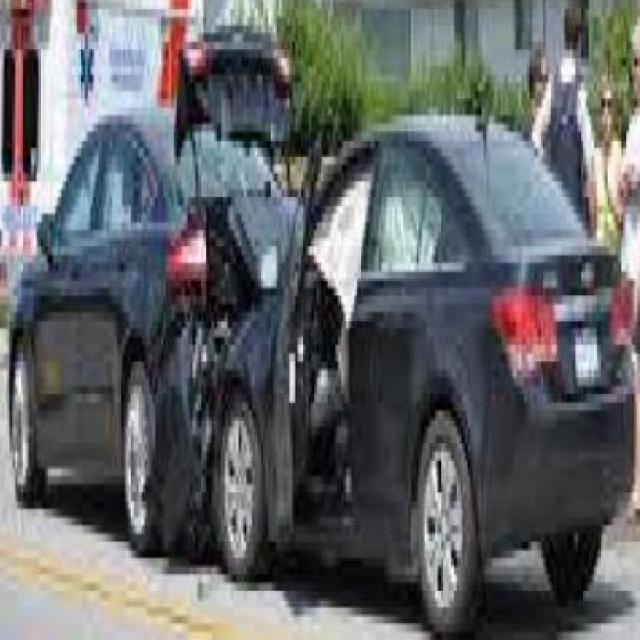accident: (0, 109, 606, 577)
